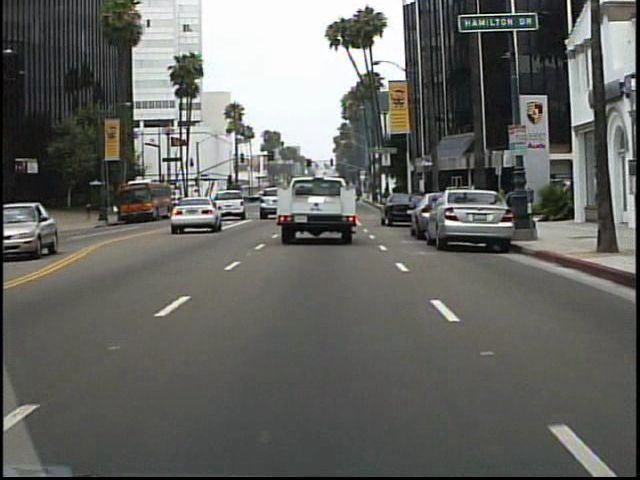person: (83, 199, 96, 225)
